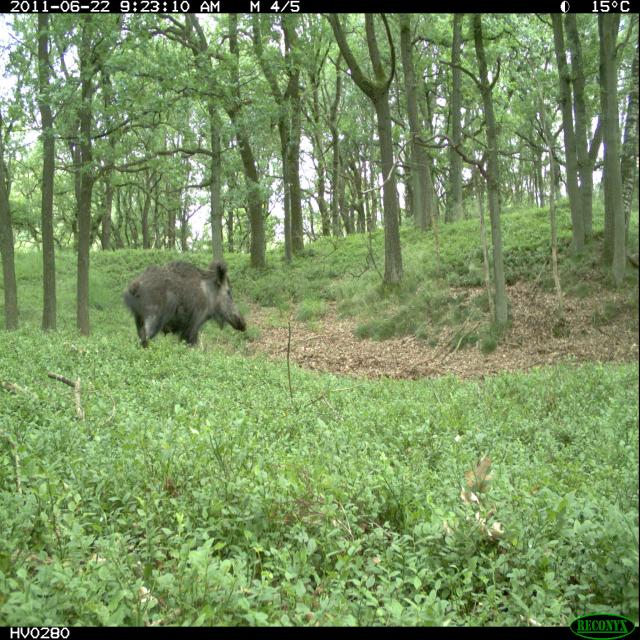boar: (108, 240, 262, 364)
